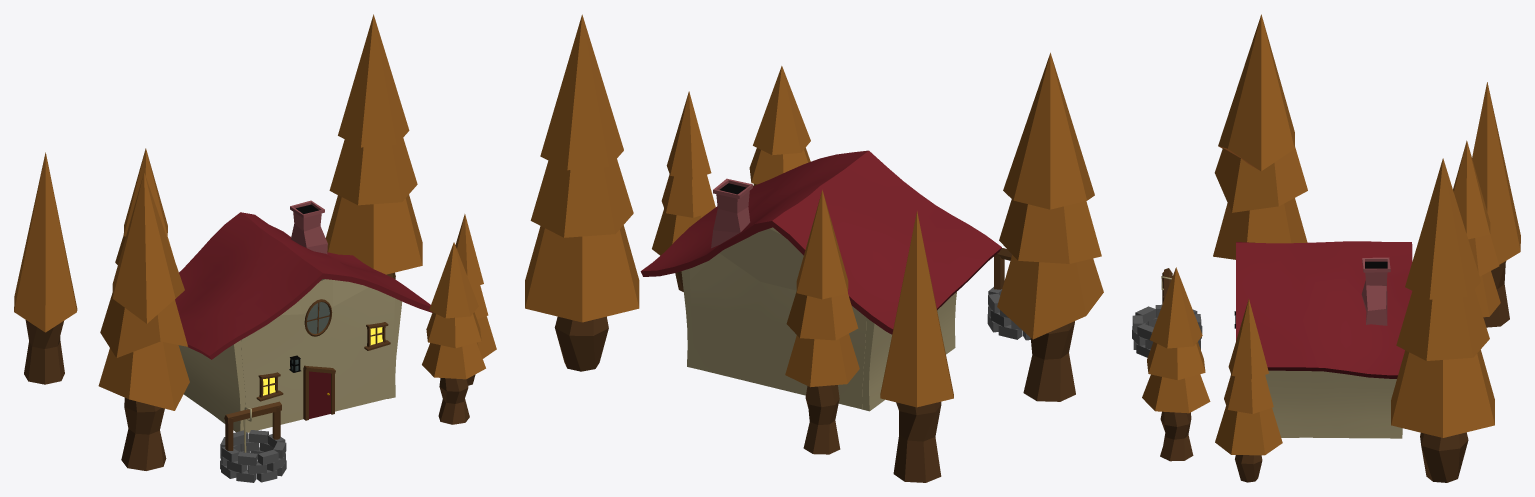
The model's file is well_house.fbx.
3 renders of one model, left to right at view 1: azimuth 30°, elevation 25°; view 2: azimuth 150°, elevation 25°; view 3: azimuth 270°, elevation 25°, orthographic. The views are drawn at different scales.
Visible parts, largest first — view 1: well_house; view 2: well_house; view 3: well_house.
Boxes of the visible parts, x1,y1,x2,y2 form: well_house: [14, 14, 496, 482]; well_house: [525, 14, 1103, 482]; well_house: [1132, 14, 1520, 482].
Size of the model in its own units: 1297 by 954 by 1022.
